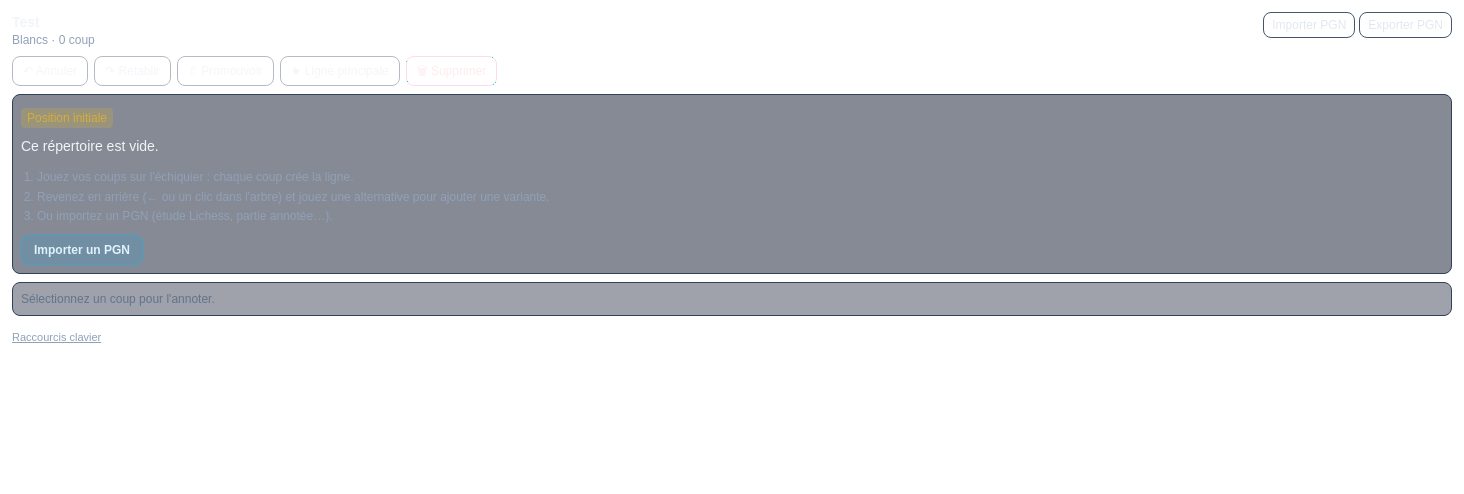
Scenario: éditeur : état vide, aide, limites › affiche et masque l'aide des raccourcis clavier
Check: the text "Ctrl+Z" is not shown
Click the button "Raccourcis clavier".
click(57, 337)  # box [12,328,101,345]
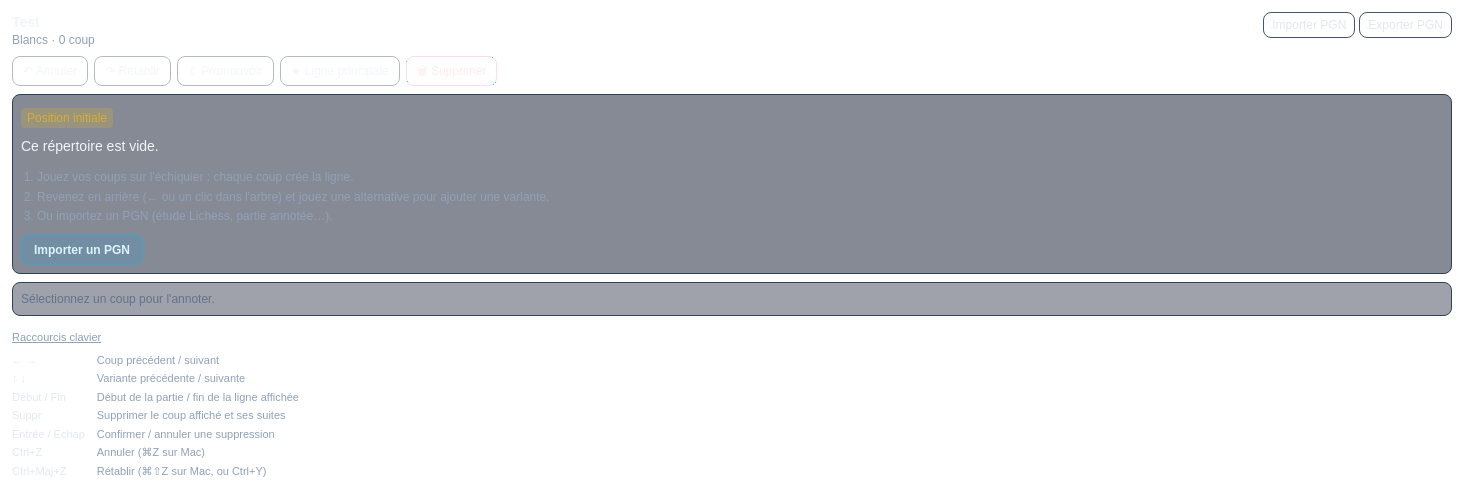
Check: the text "Ctrl+Z" is shown, box [12,446,42,458]
Check: the text "Suppr" is shown, box [12,409,41,421]
Click the button "Raccourcis clavier".
click(57, 337)  # box [12,328,101,345]
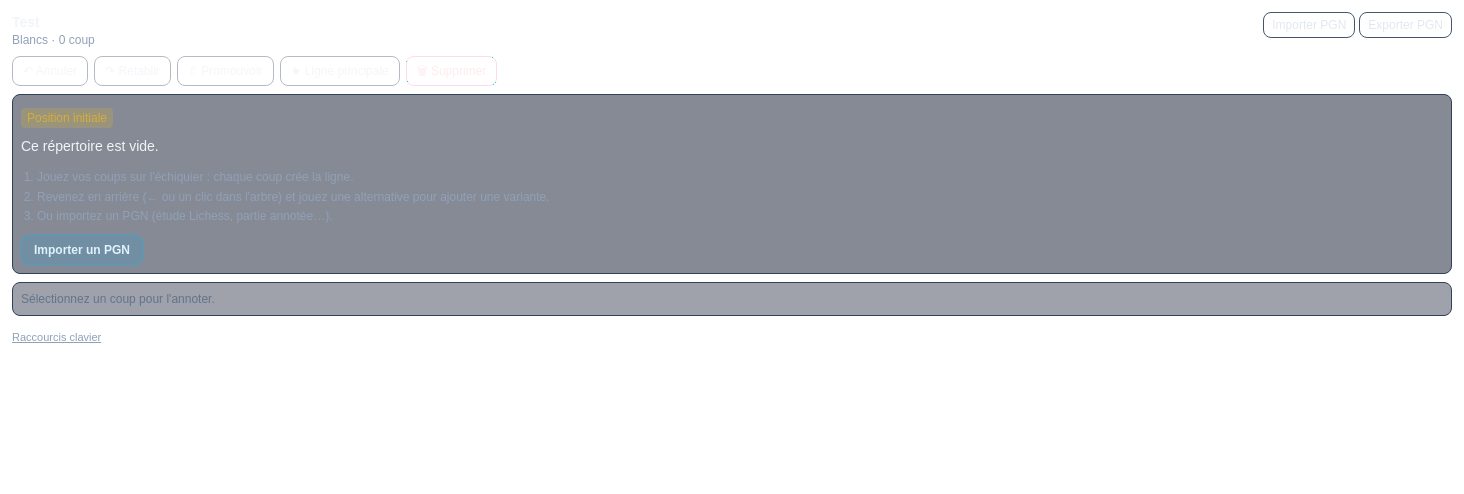
Check: the text "Ctrl+Z" is gone
